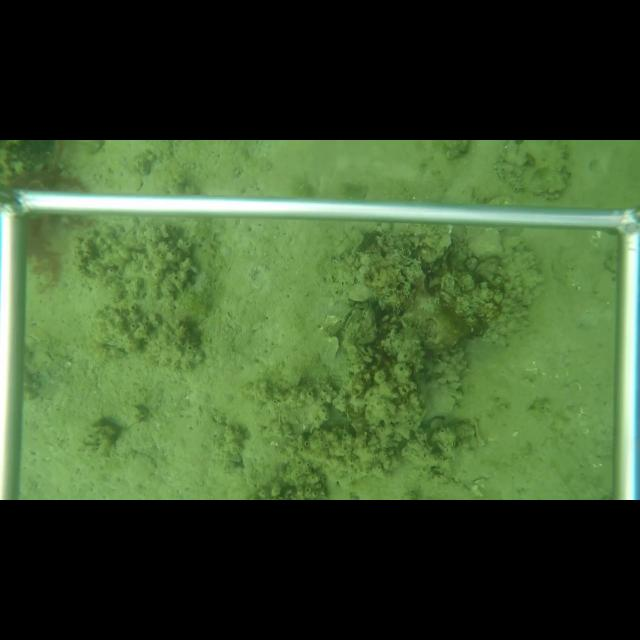Oyster-Open: (340, 309, 362, 332)
